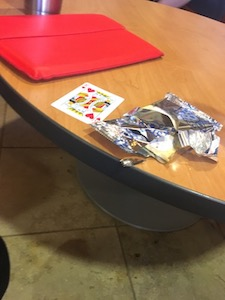KingOfHearts: (49, 80, 125, 127)
